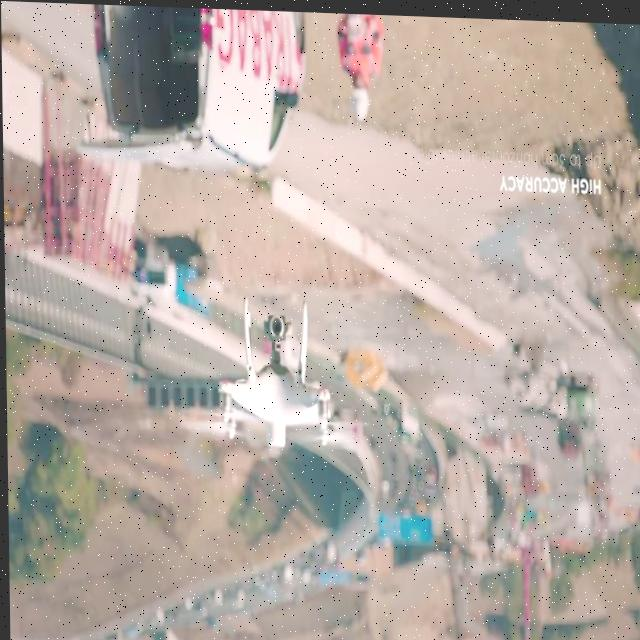drone: (175, 292, 361, 453)
